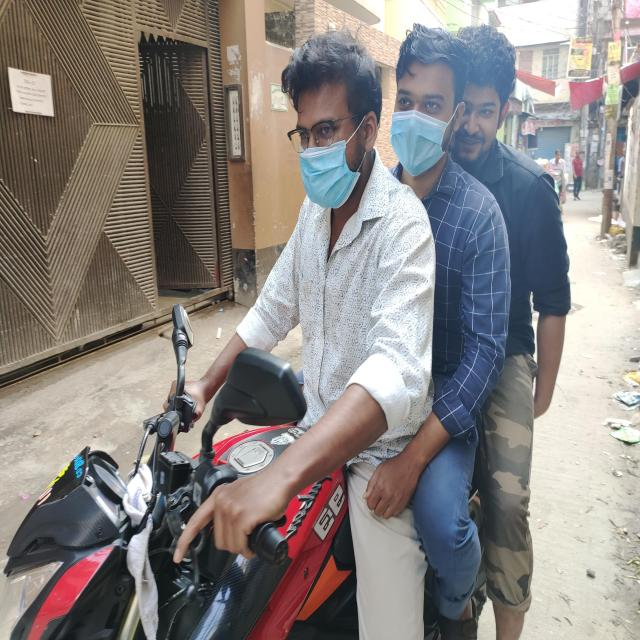triple_rider: (6, 19, 570, 640)
